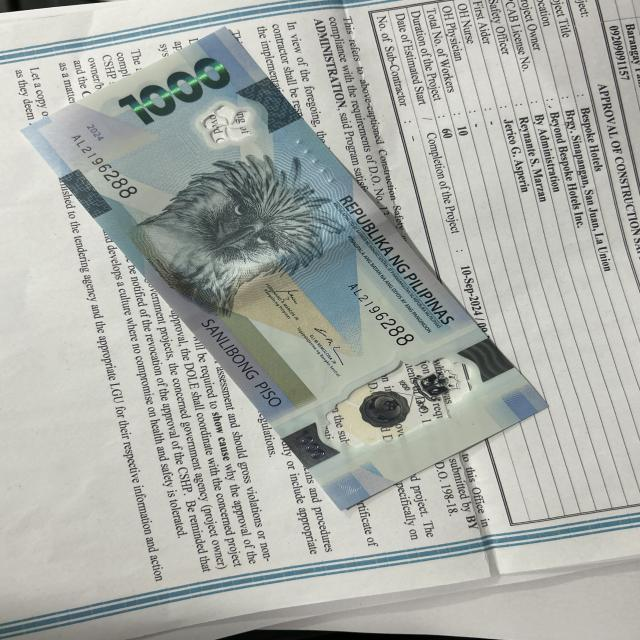clear_window: (318, 357, 487, 451)
eagle: (153, 157, 328, 300)
sampaguita: (192, 105, 252, 144)
serial_number: (62, 123, 152, 205), (334, 276, 420, 352)
